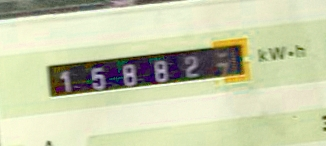1: (58, 69, 75, 95)
2: (183, 52, 202, 80)
5: (89, 65, 108, 92)
7: (215, 59, 231, 77)
8: (120, 62, 139, 88), (152, 57, 170, 83)
screen: (32, 29, 263, 112)
